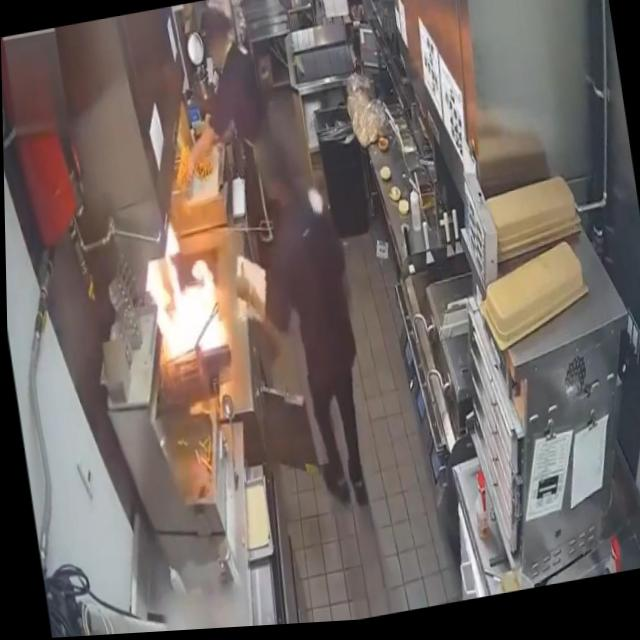fire: (135, 231, 228, 380)
